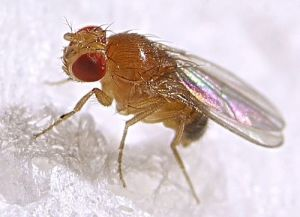phorid fly: (30, 7, 288, 207)
